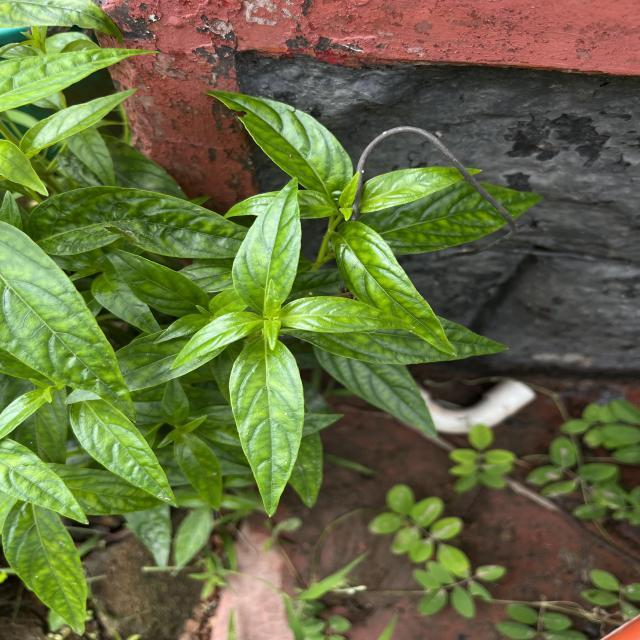Andrographis paniculata: (0, 220, 138, 423), (332, 219, 457, 360), (26, 184, 249, 260), (202, 88, 354, 195), (228, 334, 306, 519), (1, 498, 89, 637), (71, 398, 180, 509), (318, 346, 438, 439), (229, 176, 305, 310), (19, 87, 140, 160), (101, 246, 210, 316), (363, 164, 484, 213), (170, 310, 264, 371), (282, 295, 417, 336), (174, 430, 224, 512)
